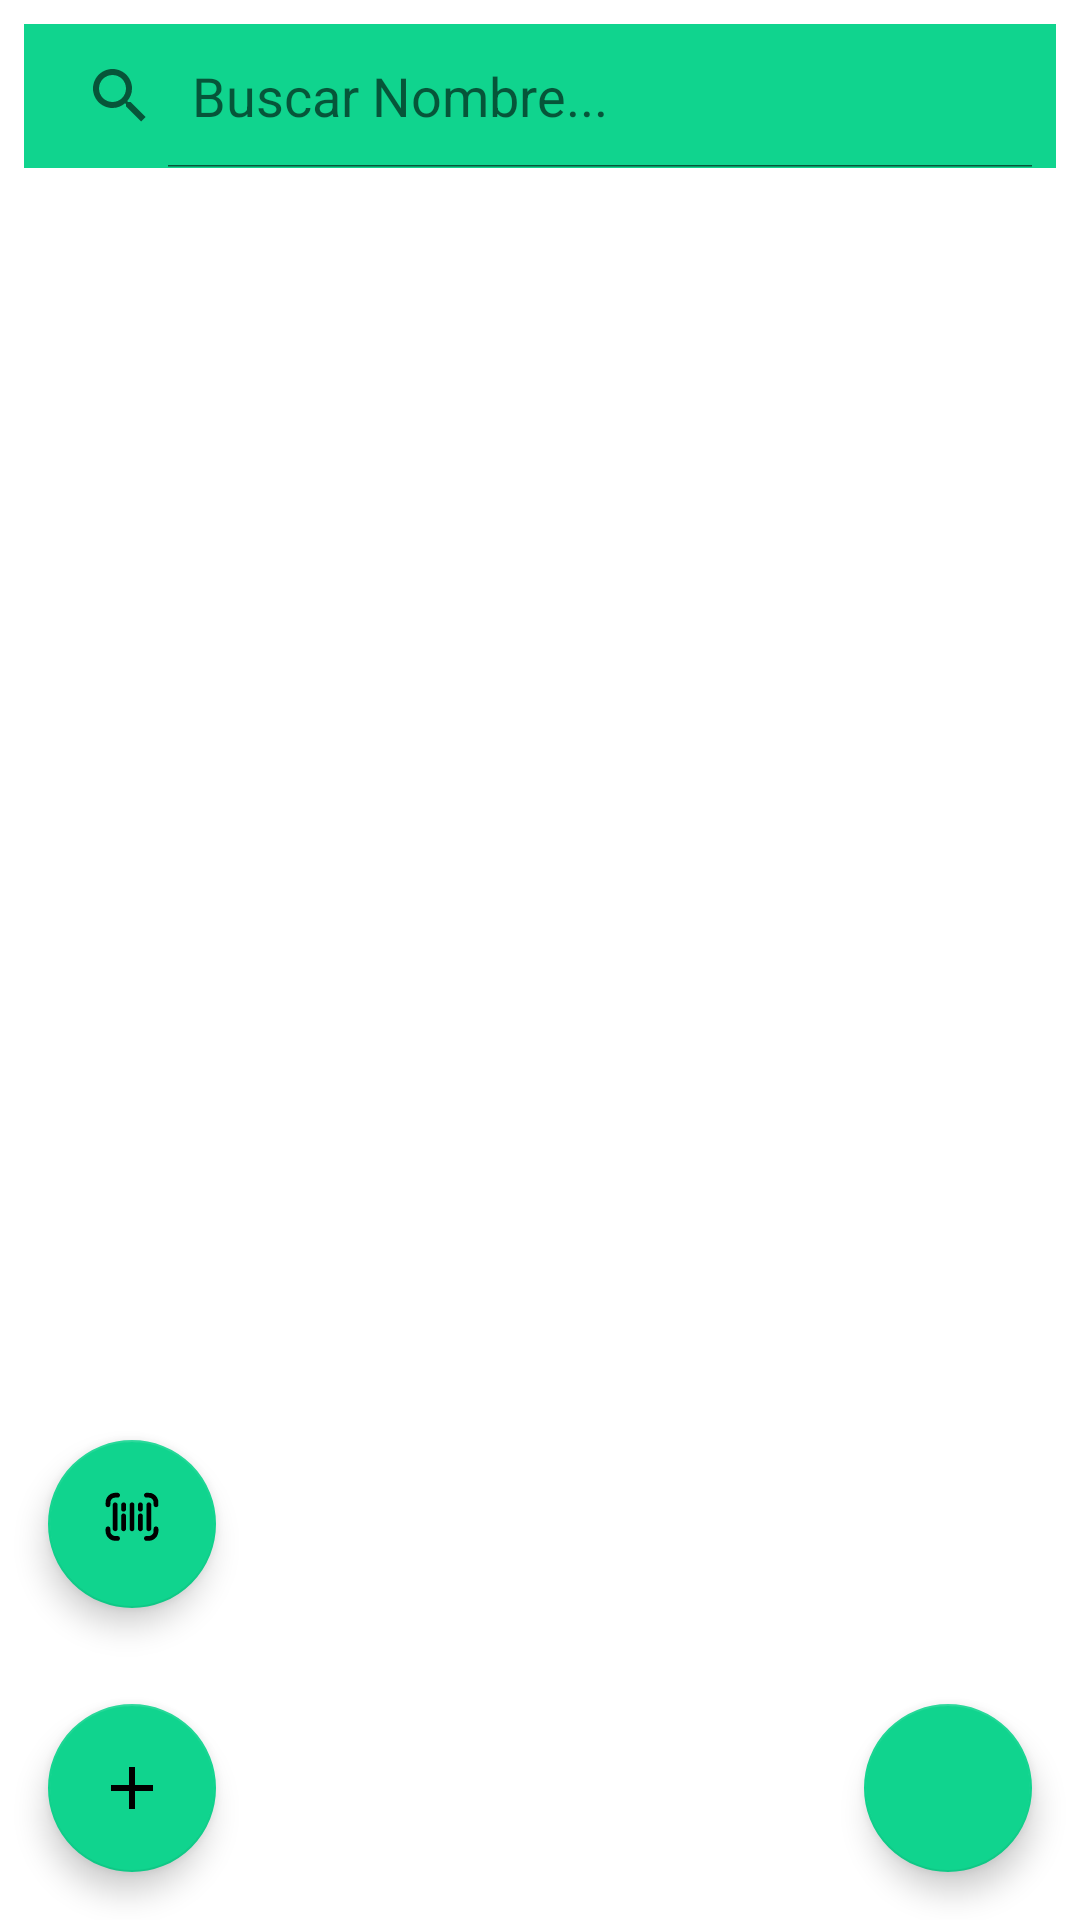

Where to tap for icons on this 1080×1920 app screen, as (x,y):
add: (132,1788)
barcode: (132,1524)
